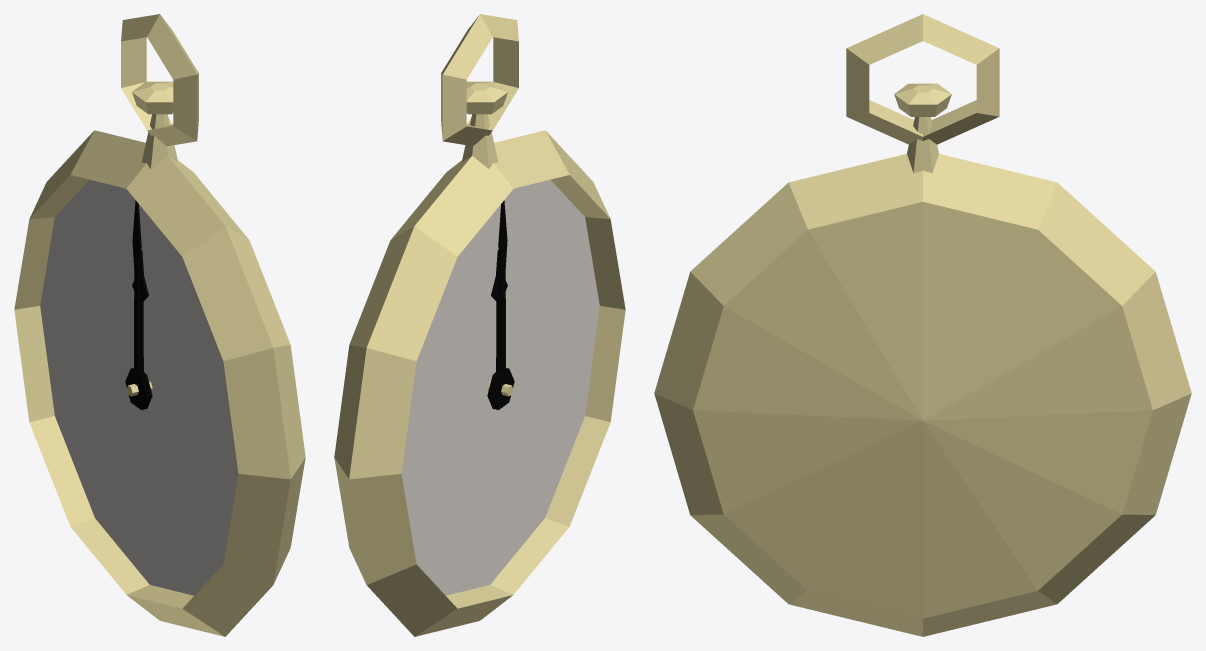
File: PocketWatch_0.1.fbx
3 views of the same model, side by side, from view 1: azimuth 30°, elevation 25°; view 2: azimuth 150°, elevation 25°; view 3: azimuth 270°, elevation 25° (orthographic). The views are drawn at different scales.
Parts seen in each view (by area): view 1: Watch, Long_Hand, Short_Hand; view 2: Watch, Long_Hand, Short_Hand; view 3: Watch.
Part boxes in pixels (x1,y1,x2,y2): Watch: (14,14,305,636); Long_Hand: (125,200,148,410); Short_Hand: (132,250,152,409); Watch: (334,14,625,636); Long_Hand: (491,200,514,410); Short_Hand: (487,250,507,409); Watch: (654,14,1191,636).
Size of the model in its own units: 45.51 by 299 by 234.
